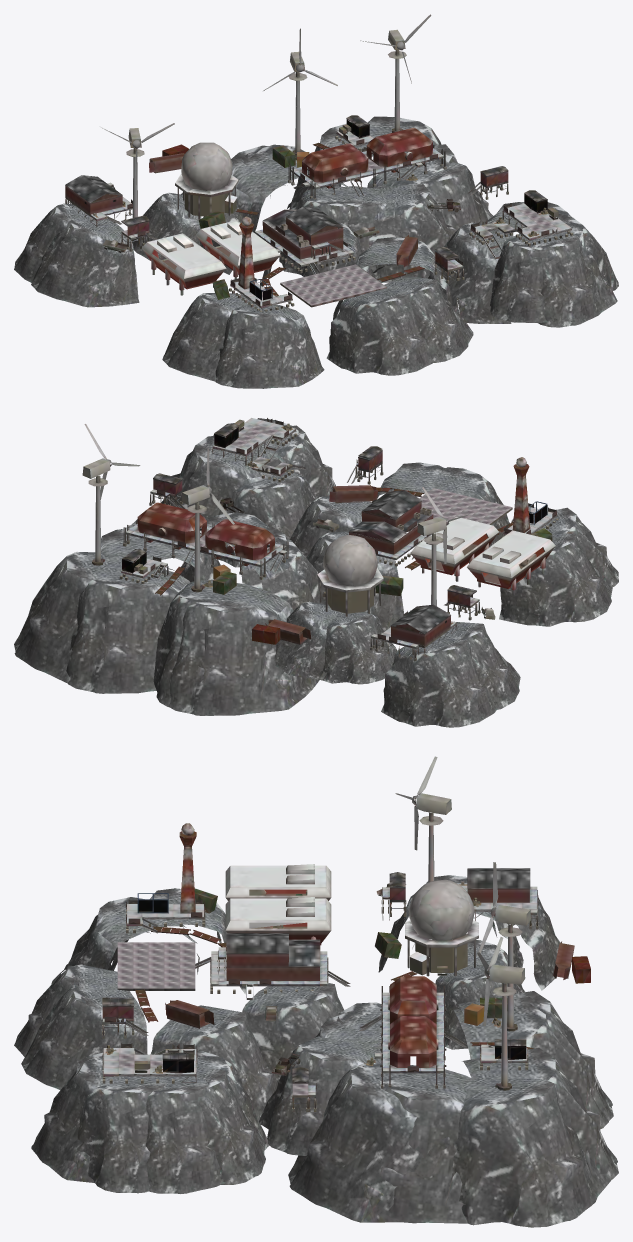
The model's file is arctic_research_base_a.glb.
3 views of the same model, one above another, from view 1: azimuth 30°, elevation 25°; view 2: azimuth 150°, elevation 25°; view 3: azimuth 270°, elevation 25° (orthographic). The views are drawn at different scales.
Parts seen in each view (by area): view 1: arctic_reasearch_base_a_hlod; view 2: arctic_reasearch_base_a_hlod; view 3: arctic_reasearch_base_a_hlod.
Part boxes in pixels (x1,y1,x2,y2): arctic_reasearch_base_a_hlod: [14, 14, 618, 388]; arctic_reasearch_base_a_hlod: [14, 418, 618, 727]; arctic_reasearch_base_a_hlod: [14, 756, 618, 1227].
Size of the model in its own units: 124 by 56.37 by 117.
1 material, 1 textured.
